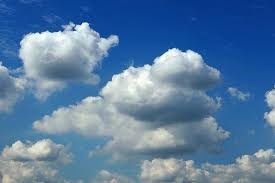sky: (2, 2, 275, 180)
